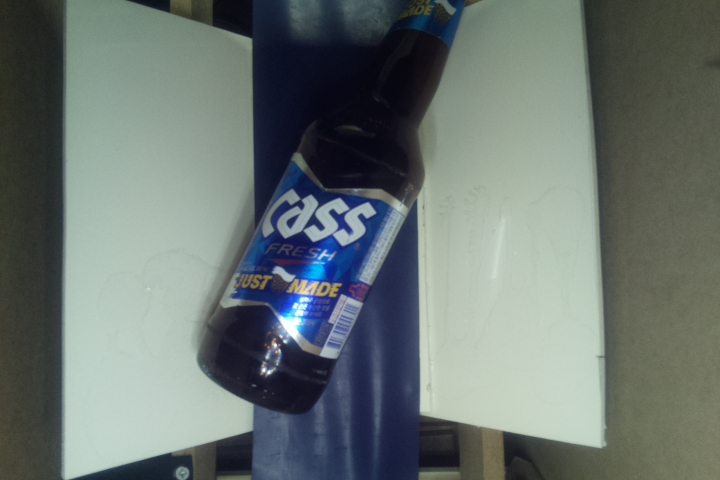makju: (197, 1, 472, 418)
